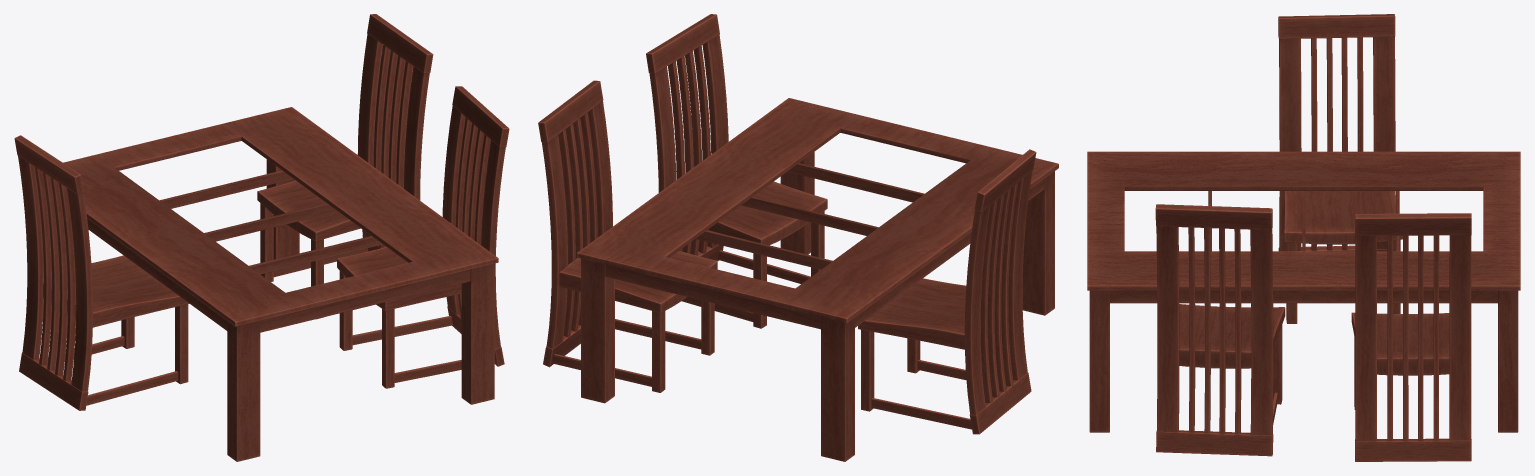
The model's file is Chair and Dinning Table.fbx.
The picture shows the model from 3 angles, left to right: view 1: azimuth 30°, elevation 25°; view 2: azimuth 150°, elevation 25°; view 3: azimuth 270°, elevation 25°; orthographic projection. The views are drawn at different scales.
Visible parts, largest first — view 1: model_1, model_0, model_0.051, model_0.052; view 2: model_1, model_0, model_0.051, model_0.052; view 3: model_1, model_0.052, model_0.051, model_0.
Boxes of the visible parts, x1=… form: model_1: x1=43, y1=107, x2=498, y2=461; model_0: x1=14, y1=135, x2=189, y2=410; model_0.051: x1=257, y1=14, x2=433, y2=319; model_0.052: x1=337, y1=86, x2=509, y2=388; model_1: x1=577, y1=98, x2=1058, y2=461; model_0: x1=858, y1=149, x2=1036, y2=434; model_0.051: x1=538, y1=80, x2=717, y2=392; model_0.052: x1=646, y1=14, x2=827, y2=328; model_1: x1=1087, y1=151, x2=1520, y2=432; model_0.052: x1=1155, y1=204, x2=1285, y2=456; model_0.051: x1=1351, y1=213, x2=1471, y2=461; model_0: x1=1278, y1=14, x2=1402, y2=323.
Bounding box in the file's own units: 16957 × 9624 × 15177.
